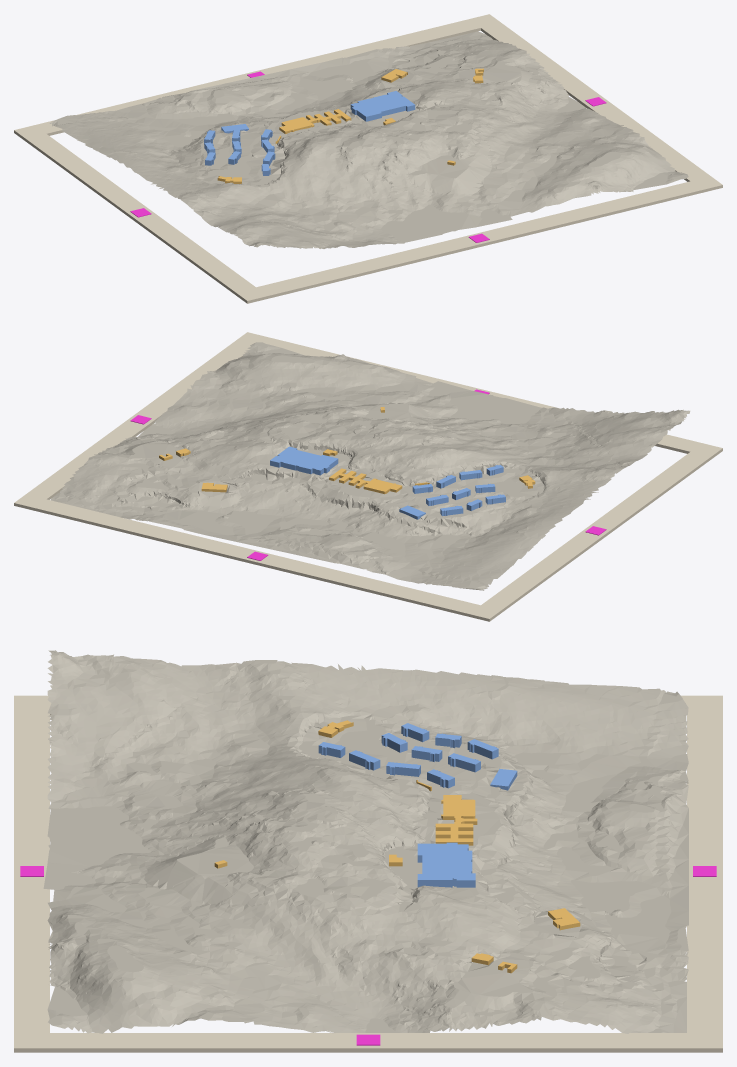
The model's file is site-scene.glb.
3 views of the same model, one above another, from view 1: azimuth 30°, elevation 25°; view 2: azimuth 150°, elevation 25°; view 3: azimuth 270°, elevation 25° (orthographic). The views are drawn at different scales.
Visible parts, largest first — view 1: site_terrain, site_ledge, building_00, building_01; view 2: site_terrain, site_ledge, building_00, building_01; view 3: site_terrain, site_ledge, building_00, building_01.
Boxes of the visible parts, x1,y1,x2,y2 form: site_terrain: (49,31,688,248); site_ledge: (14,14,722,303); building_00: (350,91,415,121); building_01: (279,109,351,133); site_terrain: (51,342,690,590); site_ledge: (14,332,722,621); building_00: (270,446,338,475); building_01: (329,468,402,494); site_terrain: (43,650,688,1033); site_ledge: (14,695,722,1052); building_00: (417,842,475,887); building_01: (435,795,477,845).
Size of the model in its own units: 1.76 by 0.1524 by 1.5.
